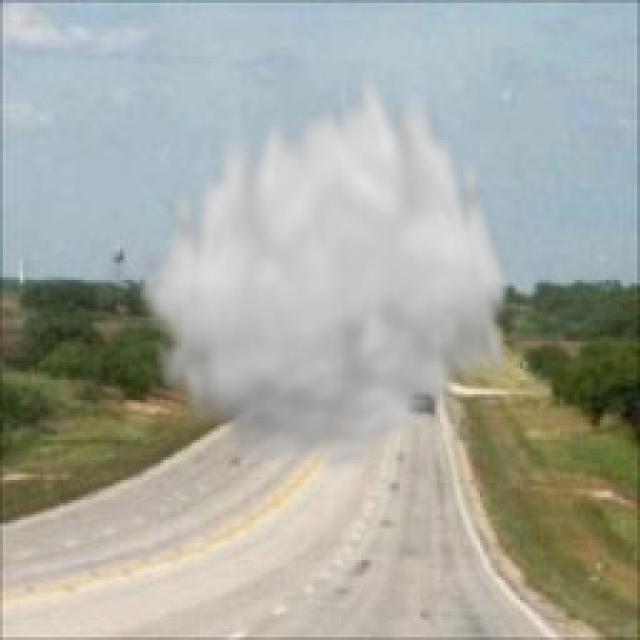smoke: (132, 57, 514, 480)
